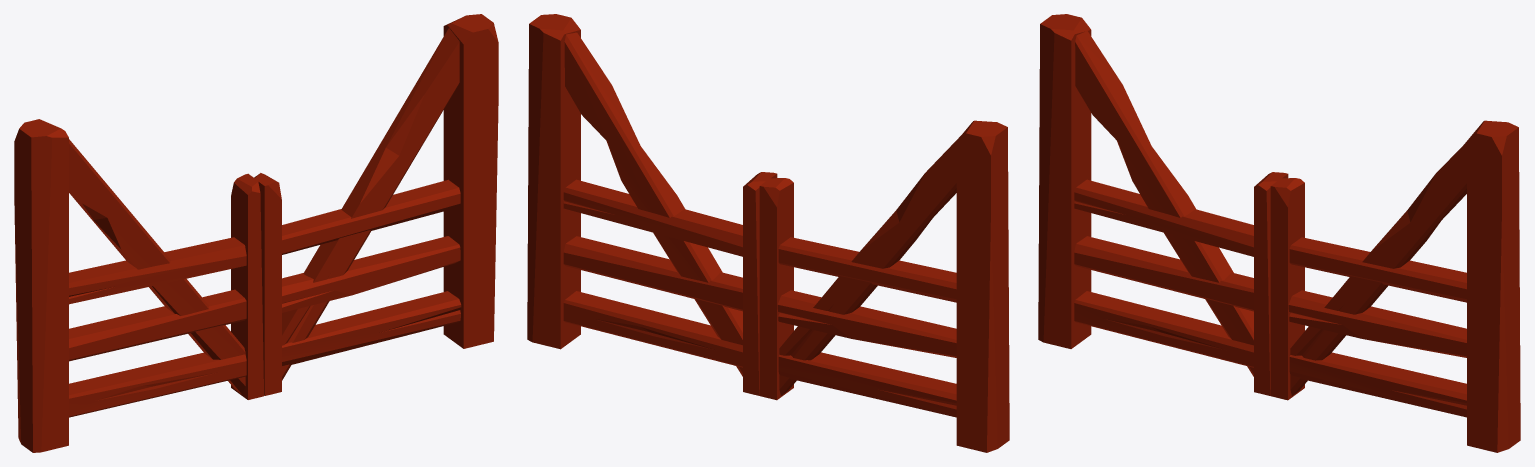
The model's file is Fence_4_2.fbx.
3 views of the same model, side by side, from view 1: azimuth 30°, elevation 25°; view 2: azimuth 150°, elevation 25°; view 3: azimuth 330°, elevation 25° (orthographic).
Parts seen in each view (by area): view 1: Fence_4_2; view 2: Fence_4_2; view 3: Fence_4_2.
Part boxes in pixels (x1=…): Fence_4_2: x1=14, y1=14, x2=498, y2=452; Fence_4_2: x1=527, y1=14, x2=1009, y2=452; Fence_4_2: x1=1038, y1=14, x2=1520, y2=452.
Bounding box in the file's own units: 63.5 × 41.05 × 4.85.
